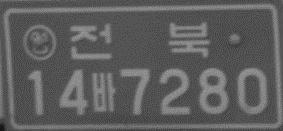0: (235, 66, 267, 115)
1: (22, 69, 53, 115)
2: (157, 67, 190, 116)
4: (58, 68, 88, 115)
7: (119, 67, 150, 115)
8: (197, 67, 229, 116)
바: (90, 71, 116, 114)
영: (21, 24, 56, 61)
전북_D: (67, 21, 210, 62)
